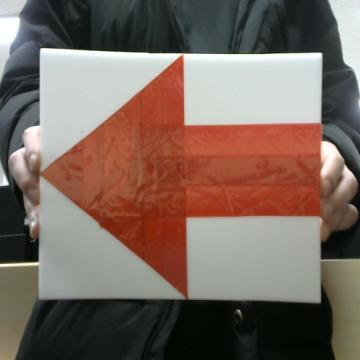red_left: (42, 55, 321, 296)
